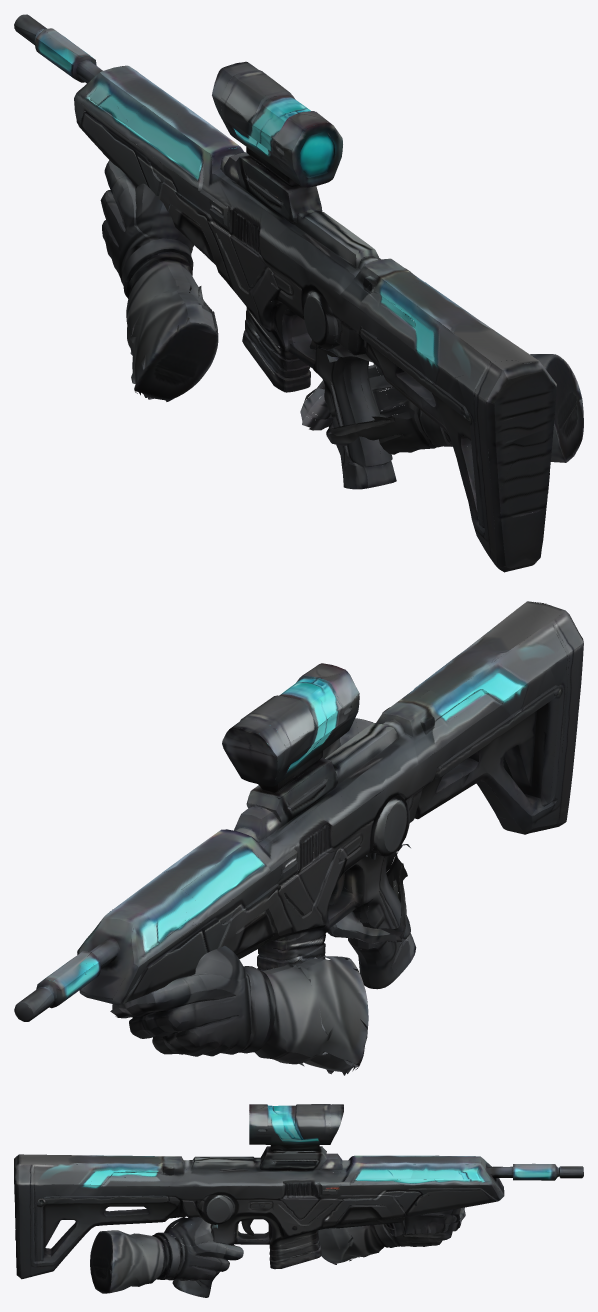
File: weapon_tealsniper.glb
The picture shows the model from 3 angles, top to bottom: view 1: azimuth 30°, elevation 25°; view 2: azimuth 150°, elevation 25°; view 3: azimuth 270°, elevation 25°; orthographic projection. The views are drawn at different scales.
Parts seen in each view (by area): view 1: model, model.001, model.002; view 2: model, model.001, model.002; view 3: model, model.002, model.001.
Part boxes in pixels (x1,y1,x2,y2): model: [14, 14, 556, 572]; model.001: [100, 149, 218, 401]; model.002: [300, 332, 583, 462]; model: [14, 601, 583, 1021]; model.001: [110, 925, 368, 1075]; model.002: [322, 718, 410, 943]; model: [14, 1104, 583, 1297]; model.002: [90, 1215, 243, 1293]; model.001: [318, 1179, 465, 1264].
Bounding box in the file's own units: 0.4847 × 0.6197 × 1.69.
1 material, 1 textured.
